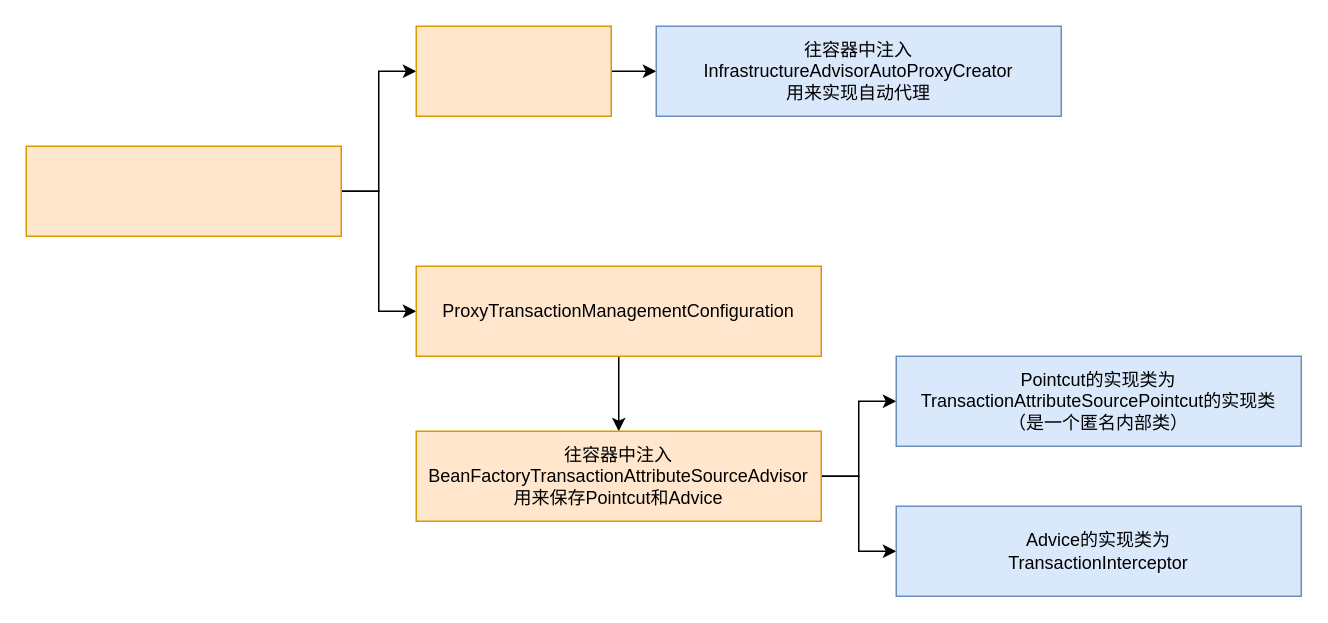
The diagram is 1328 pixels wide and 623 high, and some of its shapes have lost their labels. Here are the shapes that lost their labels. From the top down, the box of each, then its label:
(415, 25, 611, 116): AutoProxyRegistrar
(25, 145, 341, 236): @EnableTransactionManagement
